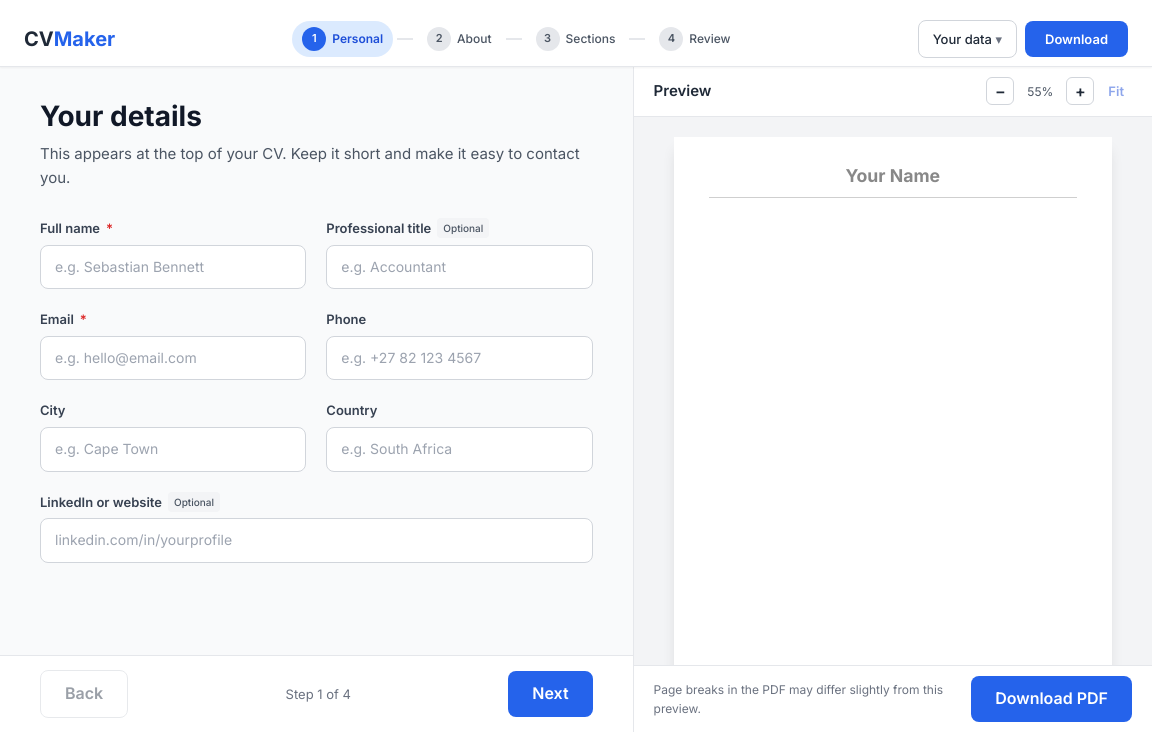
Test case: App › lets the user delete a job and undo it
Click the button "3 Sections" at (576, 39), box [526,21,625,57]
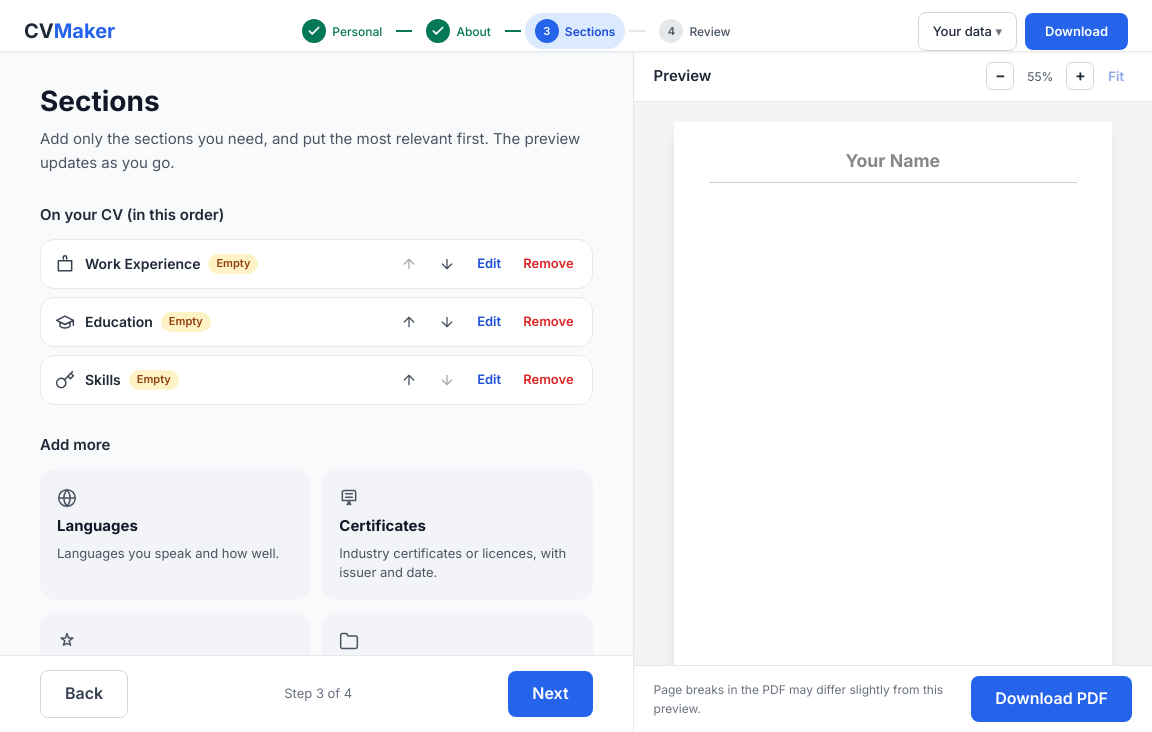
Click the button with aria-label "Edit Work Experience" at (489, 264), box [469,249,509,278]
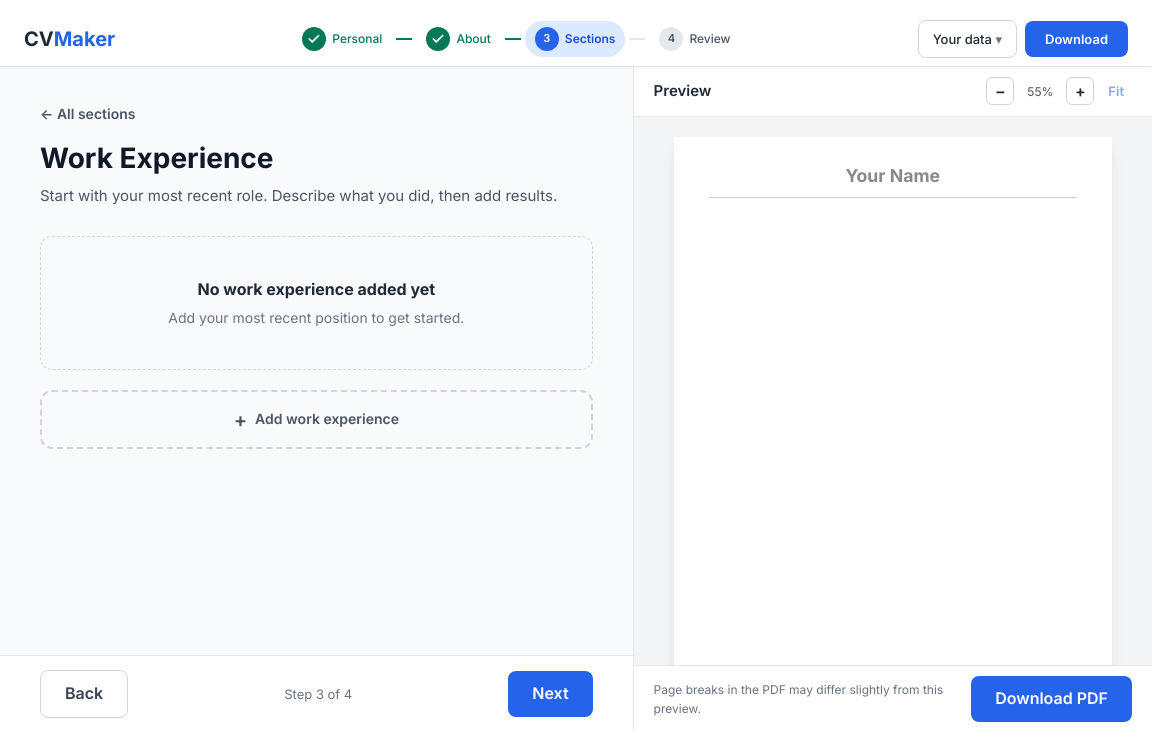
Click the button "+ Add work experience" at (316, 420), box [40,390,593,449]
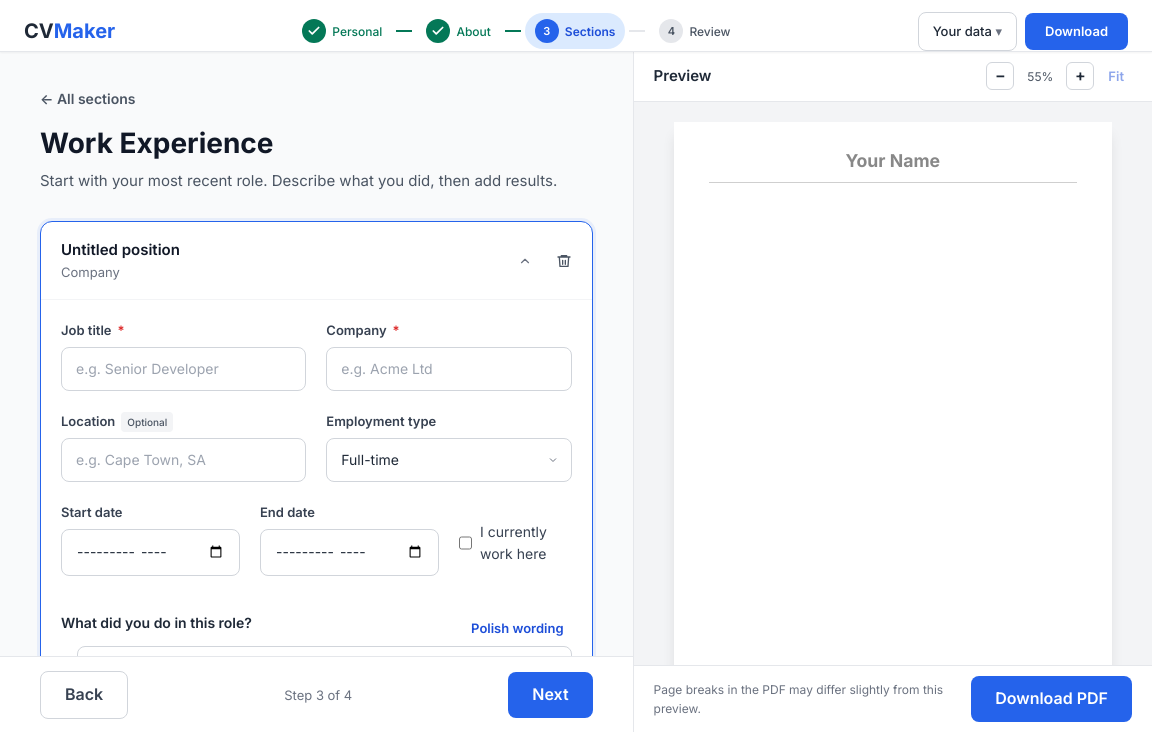
Type "Lead Engineer" into the field labelled "Job title *" at (184, 369), box [61,347,306,391]
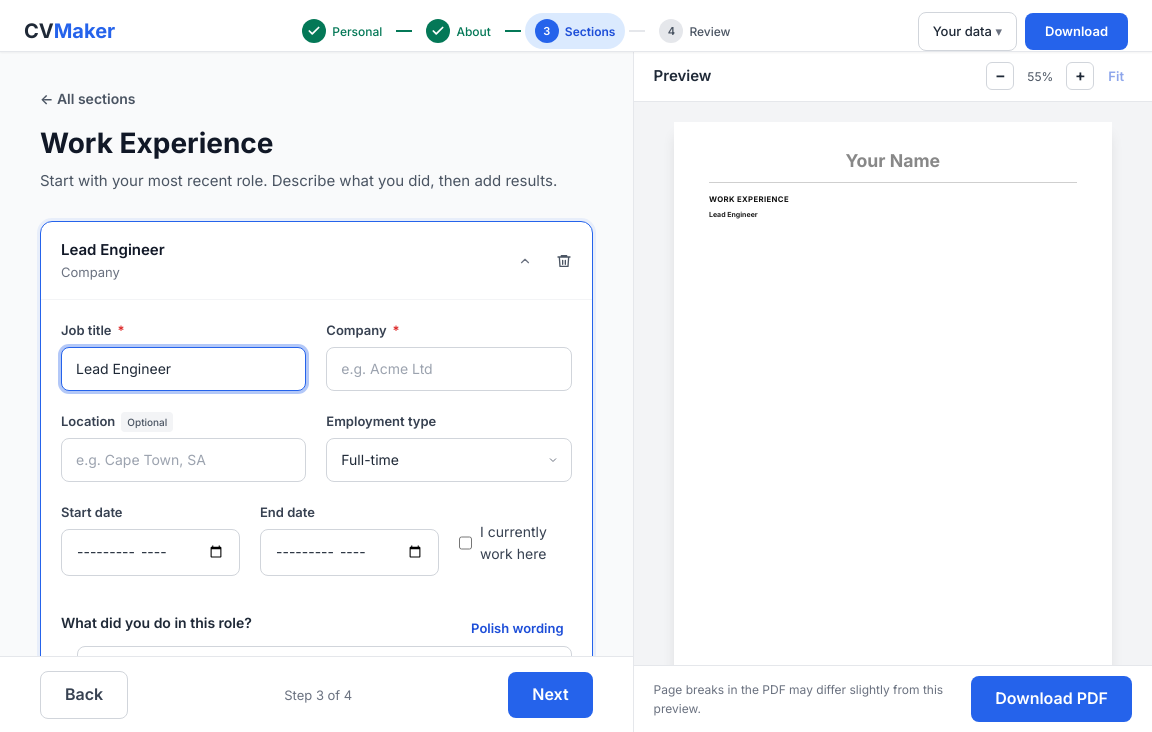
Click the button named "Delete Lead Engineer" at (564, 261), box [548,245,580,277]
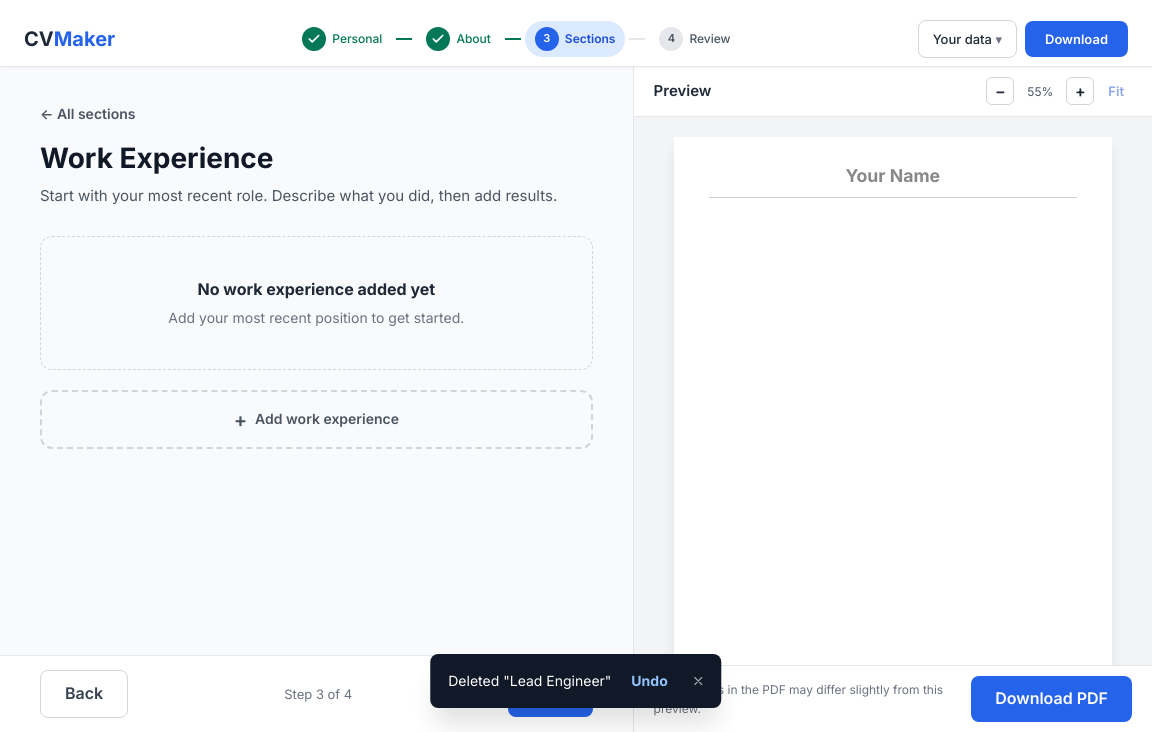
Now the label labelled "Job title" is gone
Now the message shows "Deleted \"Lead Engineer\"", box [448,672,611,689]
Click the button "Undo" at (650, 681), box [623,666,676,696]
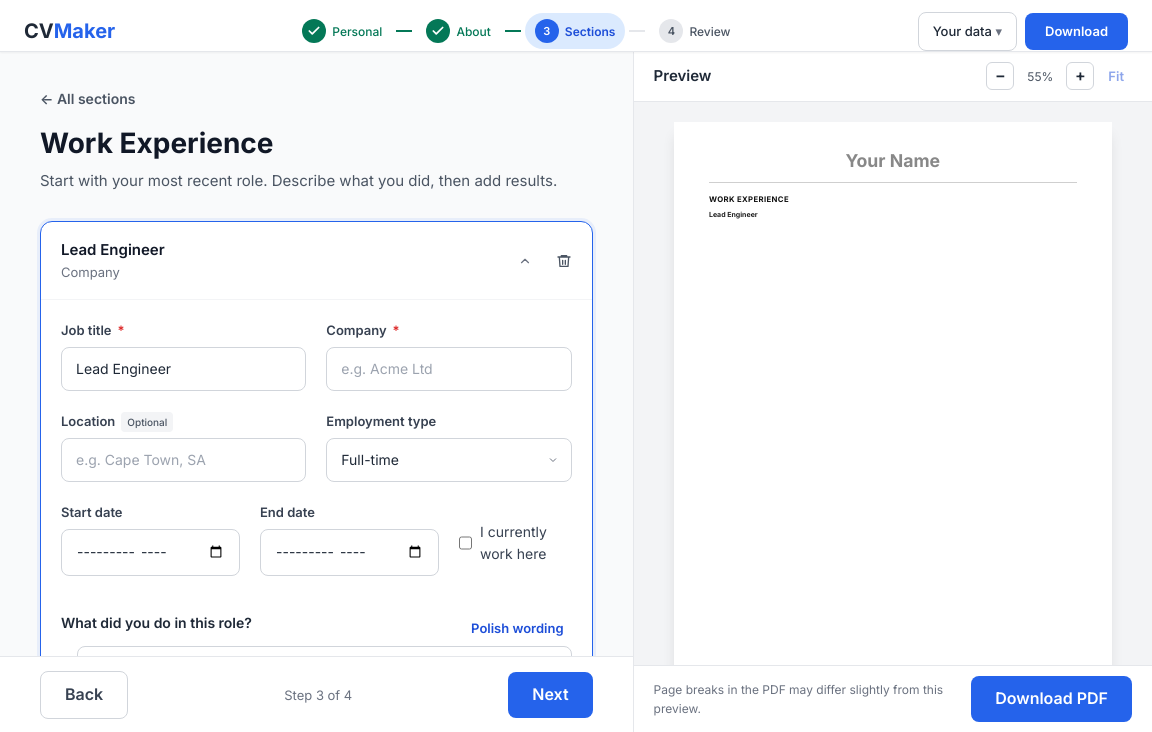
Now the button named "Delete Lead Engineer" is shown, box [548,245,580,277]
